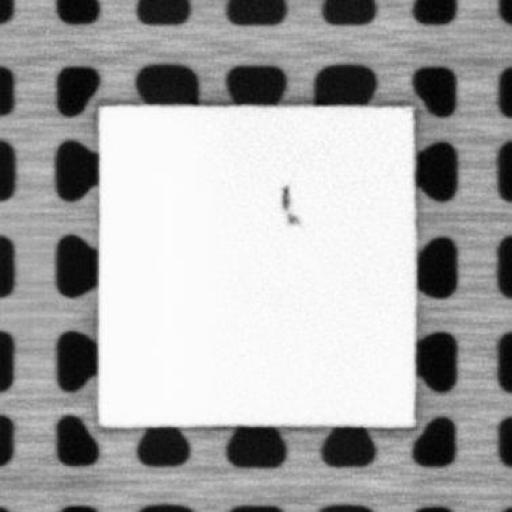DIE_INK: (283, 210, 302, 226), (278, 182, 290, 207)
